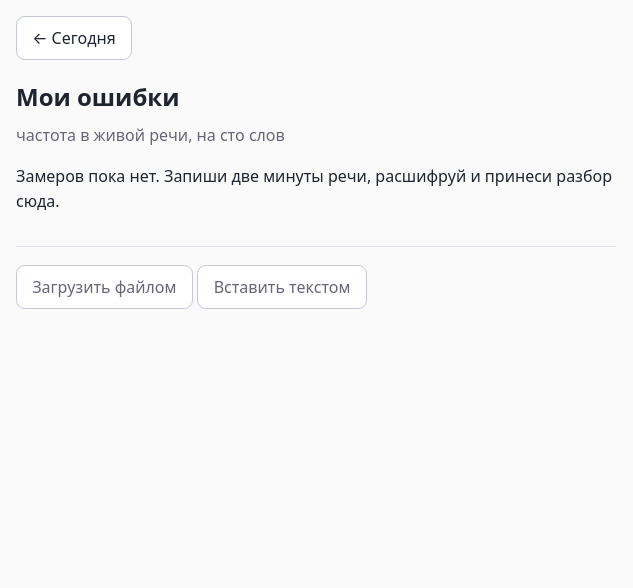
Test: SpeechErrors › объясняет непонятный текст и ничего не сохраняет
Click the button "Вставить текстом" at (282, 287), box [198,265,367,309]
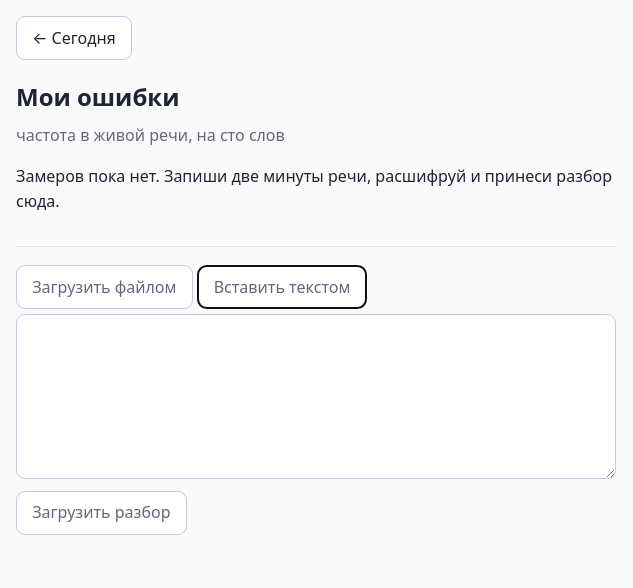
Click the text box named "текст разбора" at (316, 397), box [16,314,616,479]
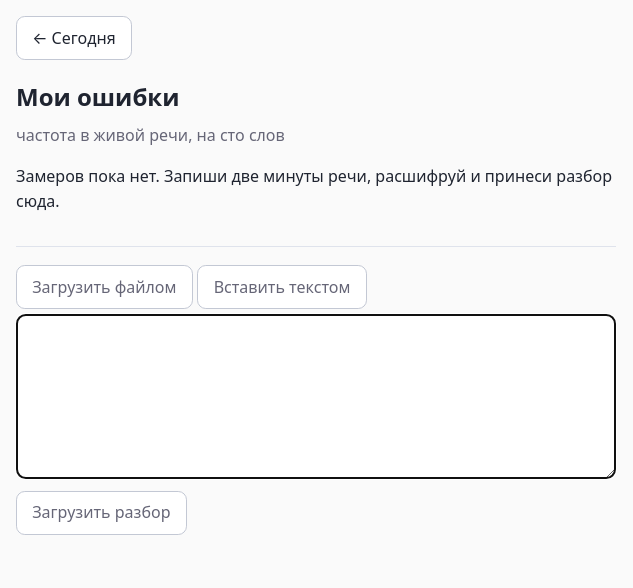
Type keys "совсем не json"
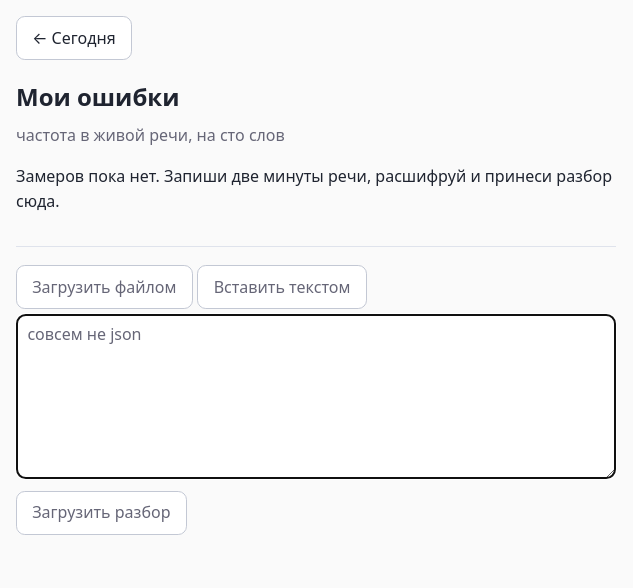
Click the button "Загрузить разбор" at (101, 513), box [16,491,187,535]
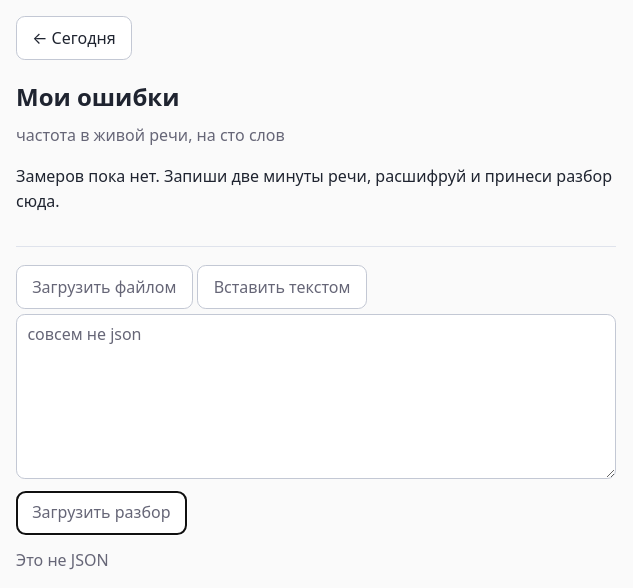
Check: the message reads "Это не JSON", box [16,549,109,571]
